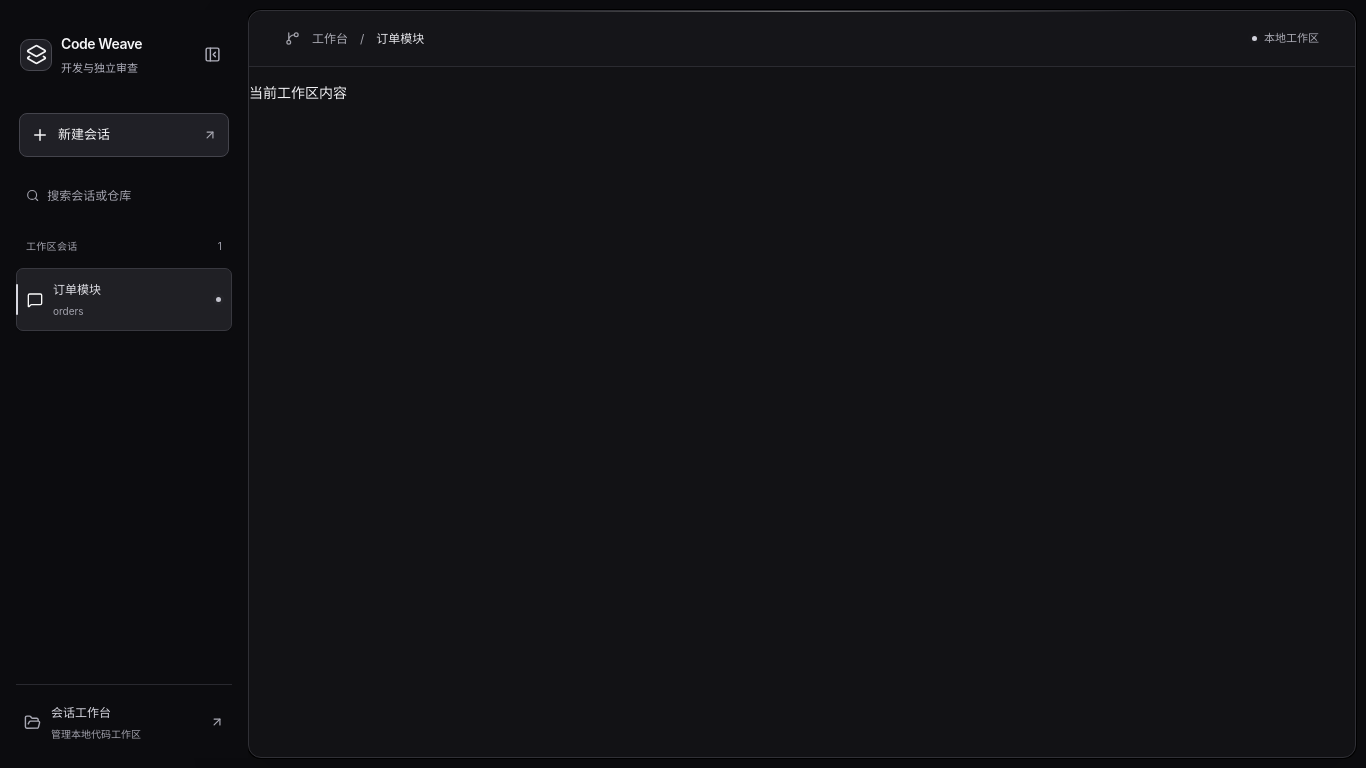
Scenario: WorkspaceShell › reads real sessions, navigates without mutation and preserves content while collapsing
Click the button named "收起侧栏". click: (212, 55)
box: [196,37,228,73]
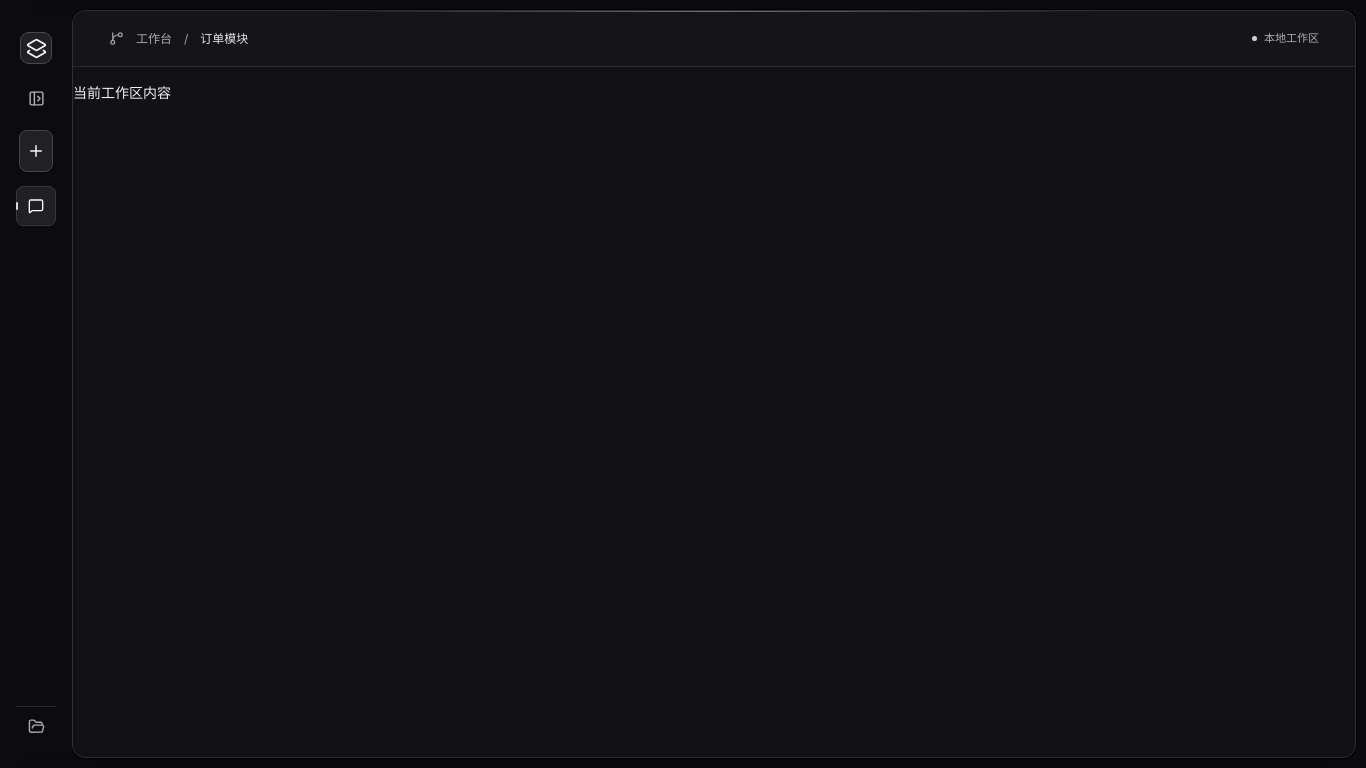
Expected: the text "当前工作区内容" is shown, [73,84,171,101]
Now the button named "展开侧栏" is collapsed
Click the button named "展开侧栏". click: (36, 98)
box: [20,80,52,116]
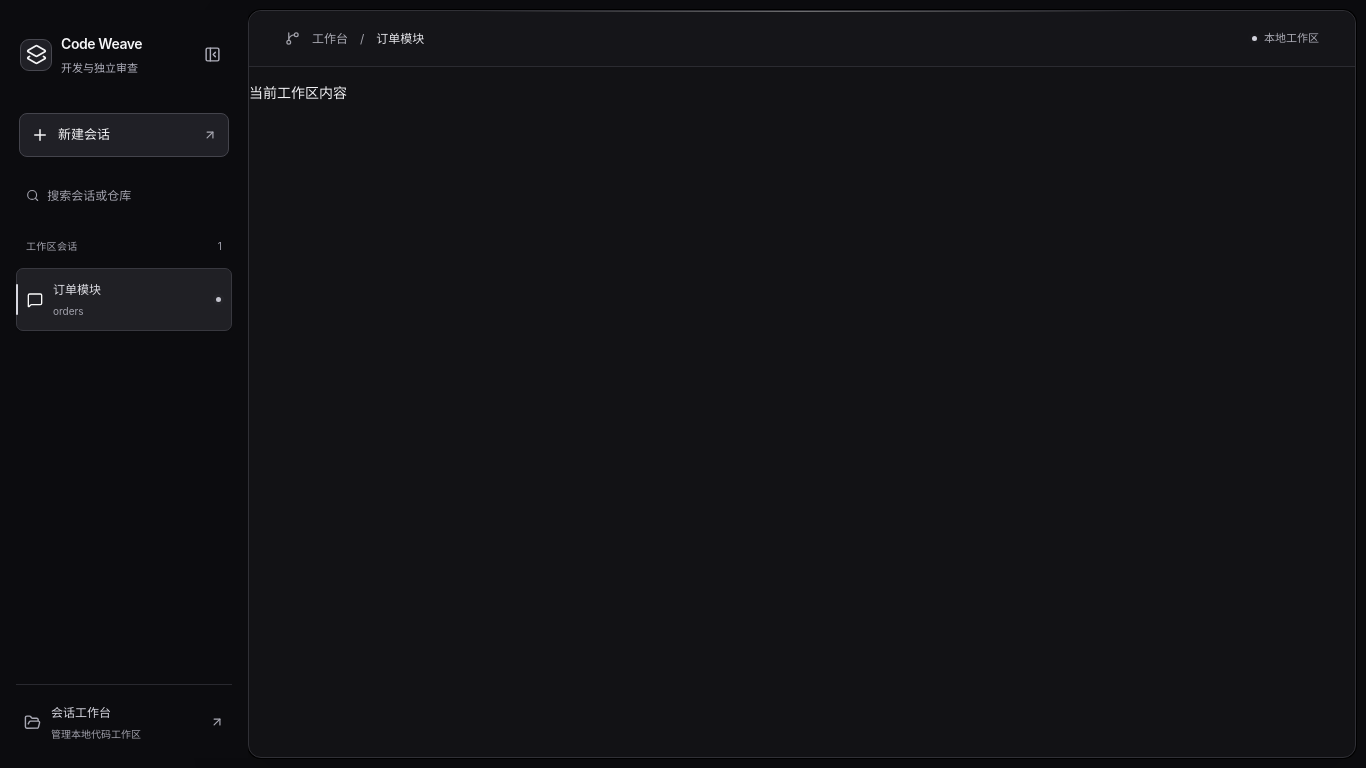
Now the button named "收起侧栏" is expanded, box [196,37,228,73]
